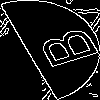B: (25, 25, 100, 74)
